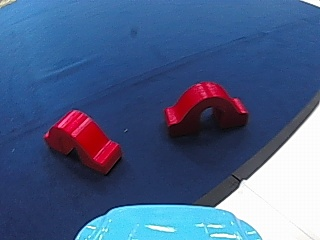bridge: (43, 106, 126, 176), (160, 77, 252, 135)
